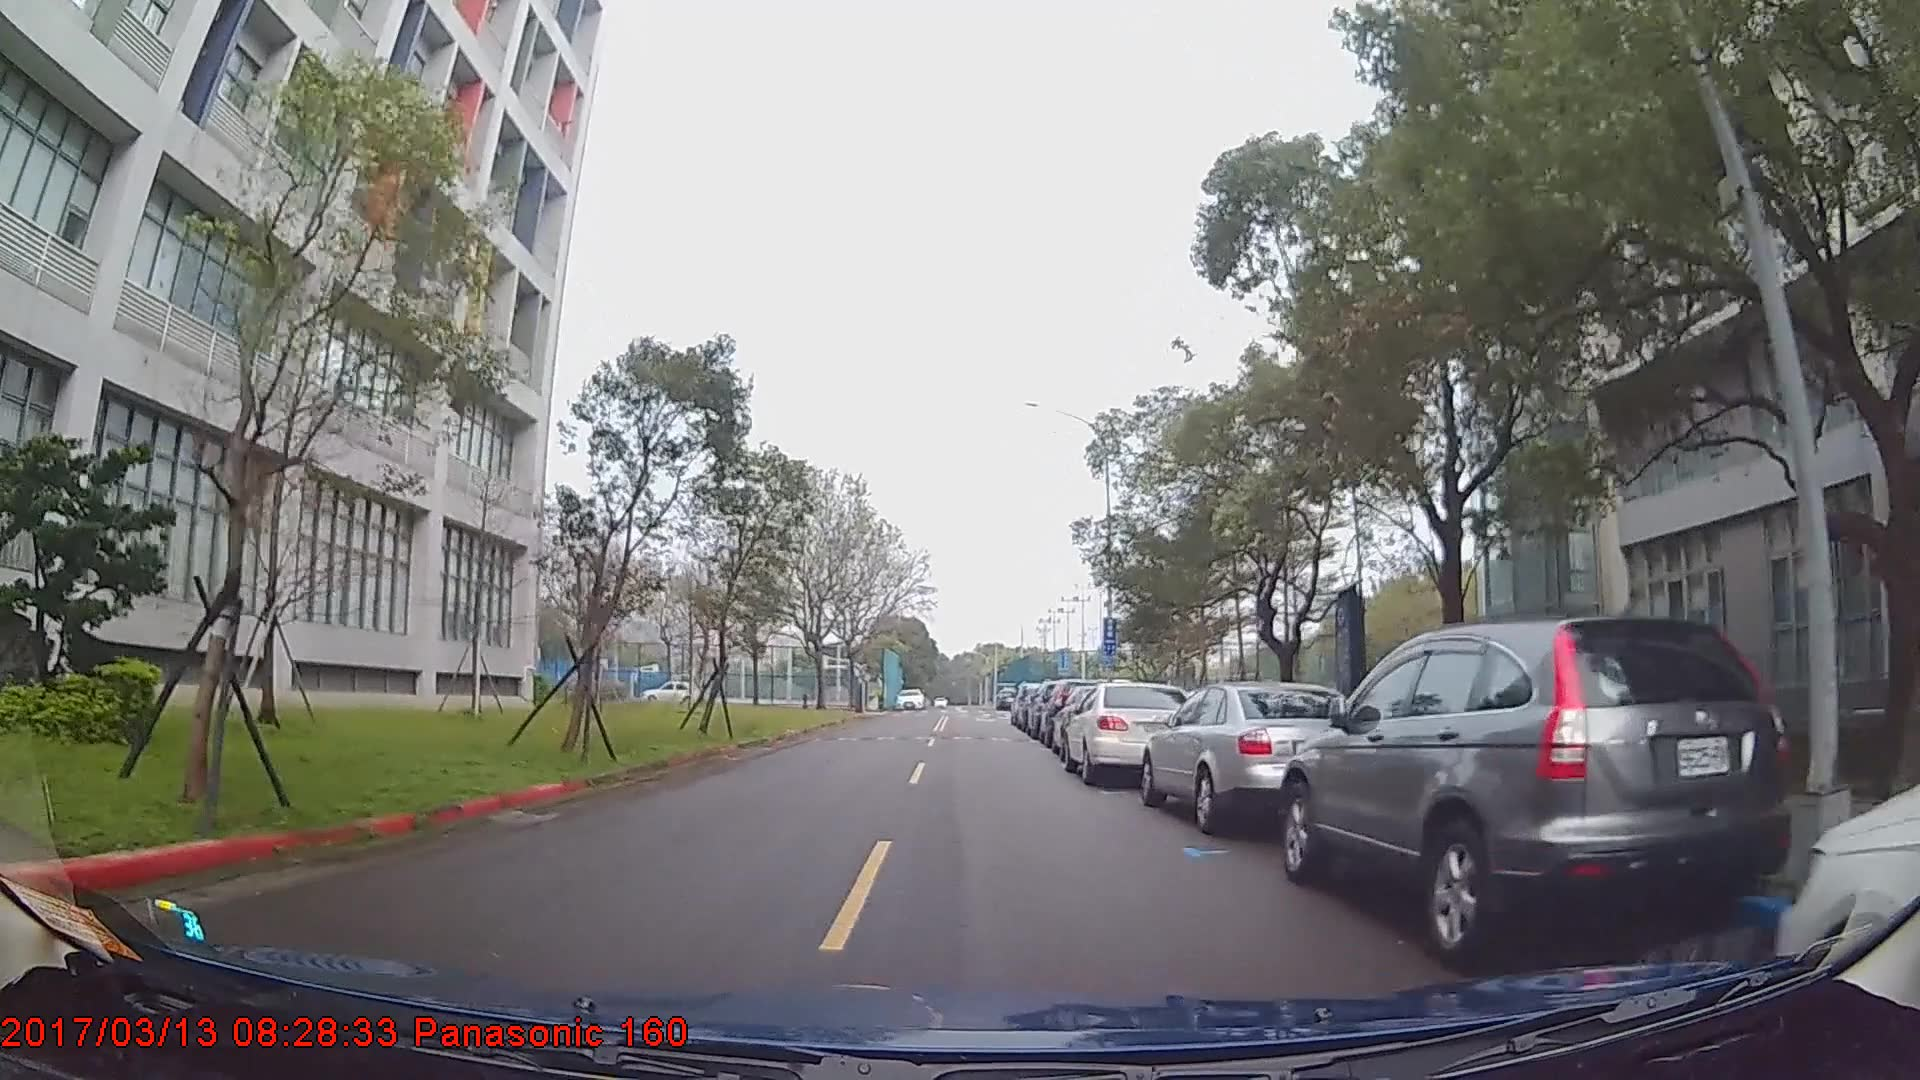vehicle: (1279, 613, 1792, 968), (1135, 679, 1364, 835), (1062, 678, 1203, 786), (642, 674, 698, 702), (893, 688, 924, 709)
